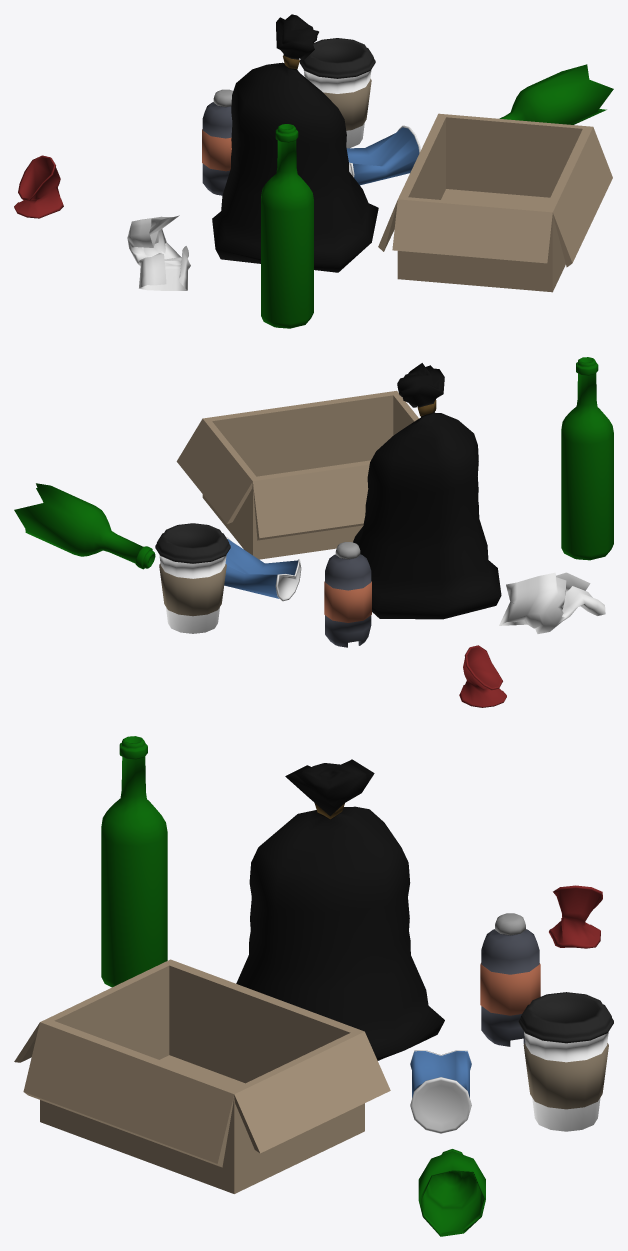
File: Basura regada 1.fbx
The picture shows the model from 3 angles, top to bottom: view 1: azimuth 30°, elevation 25°; view 2: azimuth 150°, elevation 25°; view 3: azimuth 270°, elevation 25°; orthographic projection. The views are drawn at different scales.
Visible parts, largest first — view 1: Cylinder.011; view 2: Cylinder.011; view 3: Cylinder.011.
Part boxes in pixels (box(x1,y1,x2,y2)): Cylinder.011: box(14, 14, 613, 328); Cylinder.011: box(14, 357, 613, 707); Cylinder.011: box(14, 736, 613, 1236).
Size of the model in its own units: 310 by 123 by 240.
